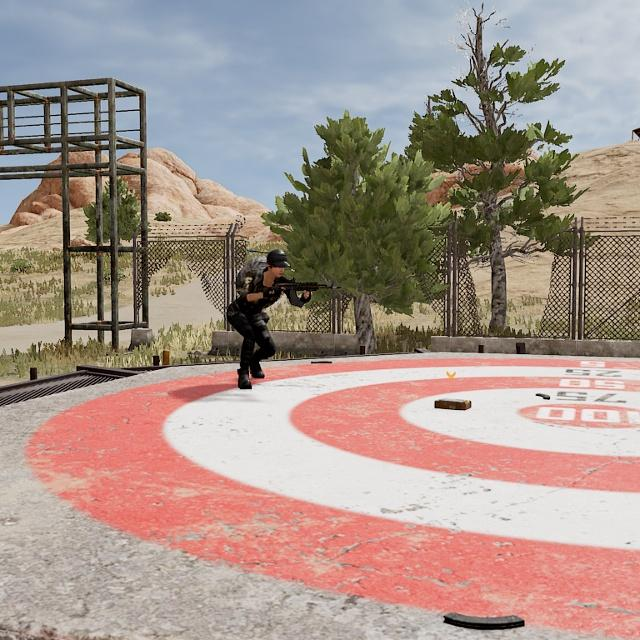head: (256, 245, 293, 285)
people: (219, 238, 313, 395)
